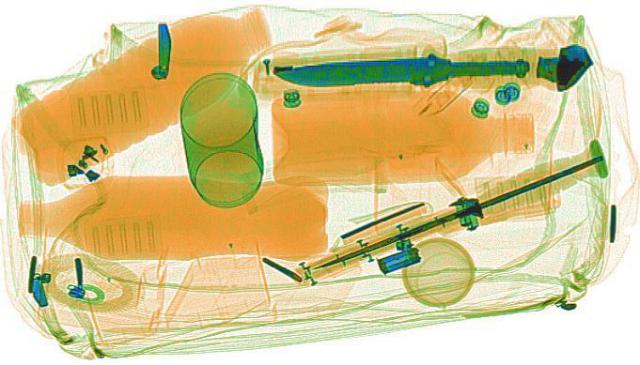Knife: (304, 146, 628, 279), (272, 50, 530, 90)
